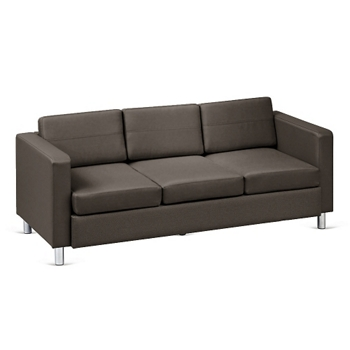chairs: (6, 94, 338, 267)
